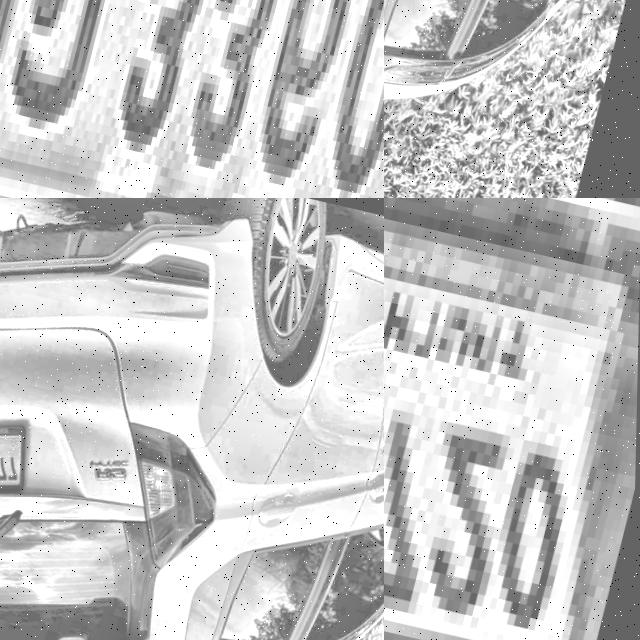license-plate: (384, 198, 640, 640), (0, 0, 384, 198), (0, 401, 40, 515)
